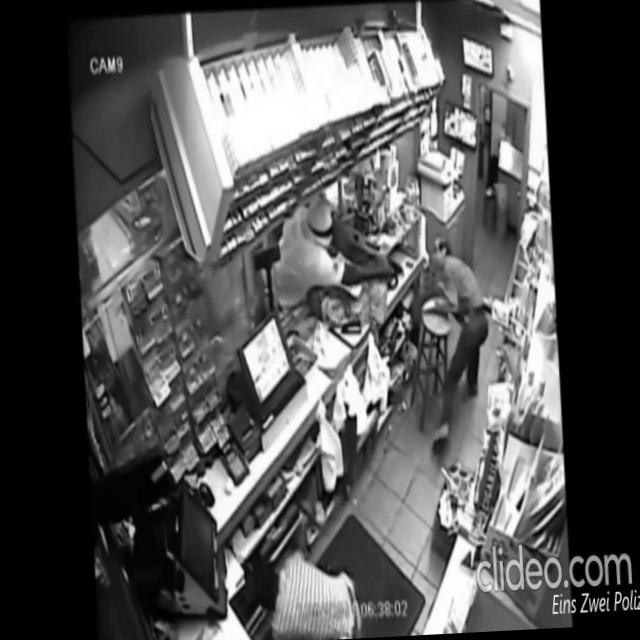gun: (381, 250, 406, 290)
person: (419, 230, 498, 455), (241, 541, 366, 640)
person with a gun: (266, 194, 408, 311)
